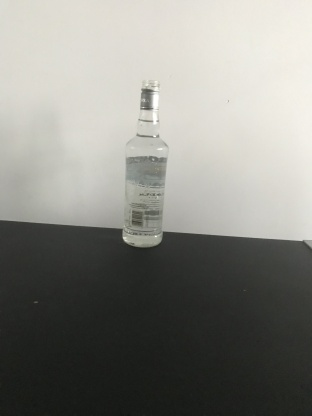nakretka: (138, 78, 161, 110)
